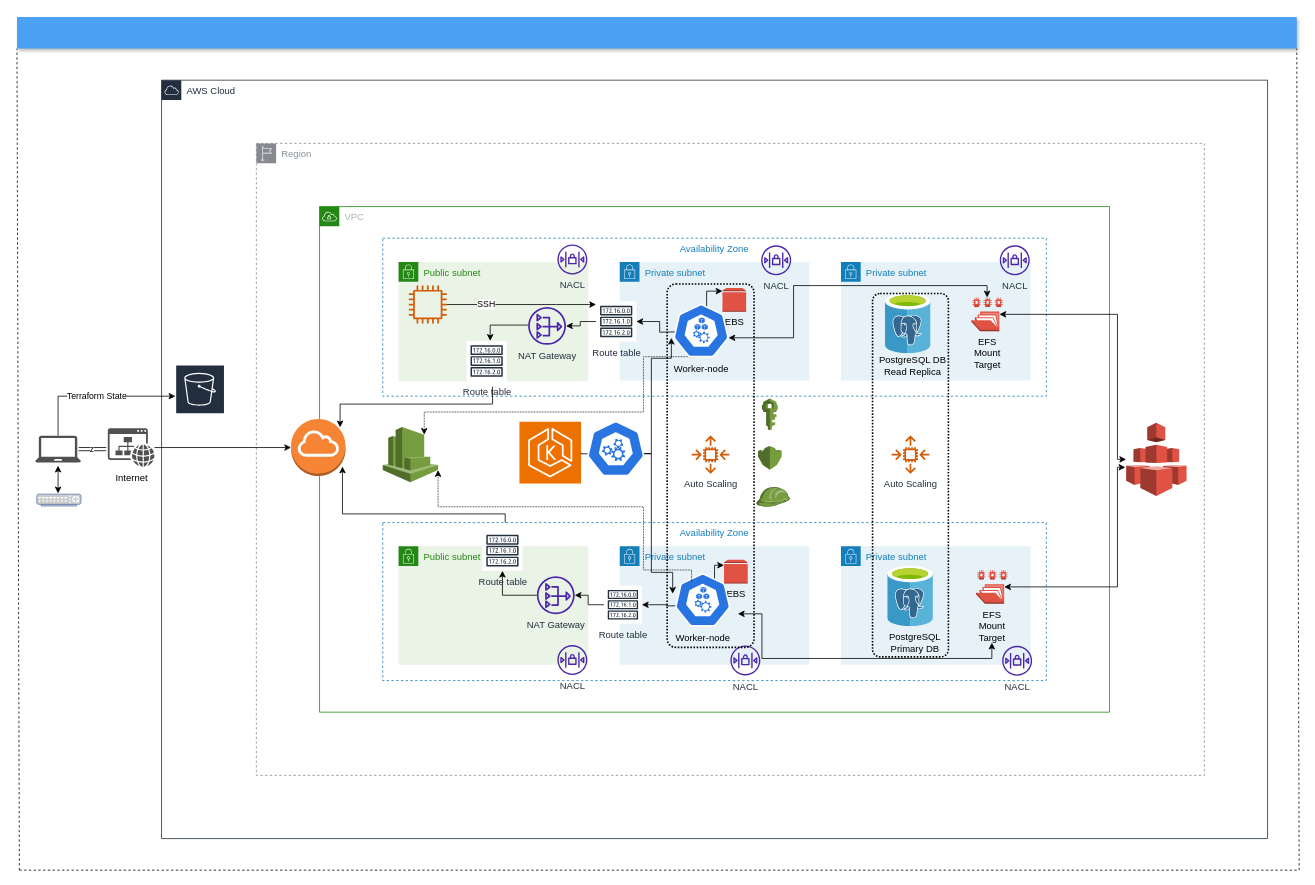
This 1315x885 diagram has some shape labels left out. Each missing label, with the centre of its shape:
"(Infra only) EKS Cluster deployed on a three tier architecture in AWS Cloud" belongs at (657,33).
"Amazon CloudWatch" belongs at (410,454).
"Amazon EFS" belongs at (1156,459).
"Amazon EKS" belongs at (550,452).
"Amazon S3" belongs at (200,395).
"Bastion Host" belongs at (427,304).
"IAM" belongs at (769,414).
"Internet Gateway" belongs at (318,447).
"KMS" belongs at (769,457).
"Master-node" belongs at (615,448).
"Roles" belongs at (772,496).
"Router" belongs at (58,499).
